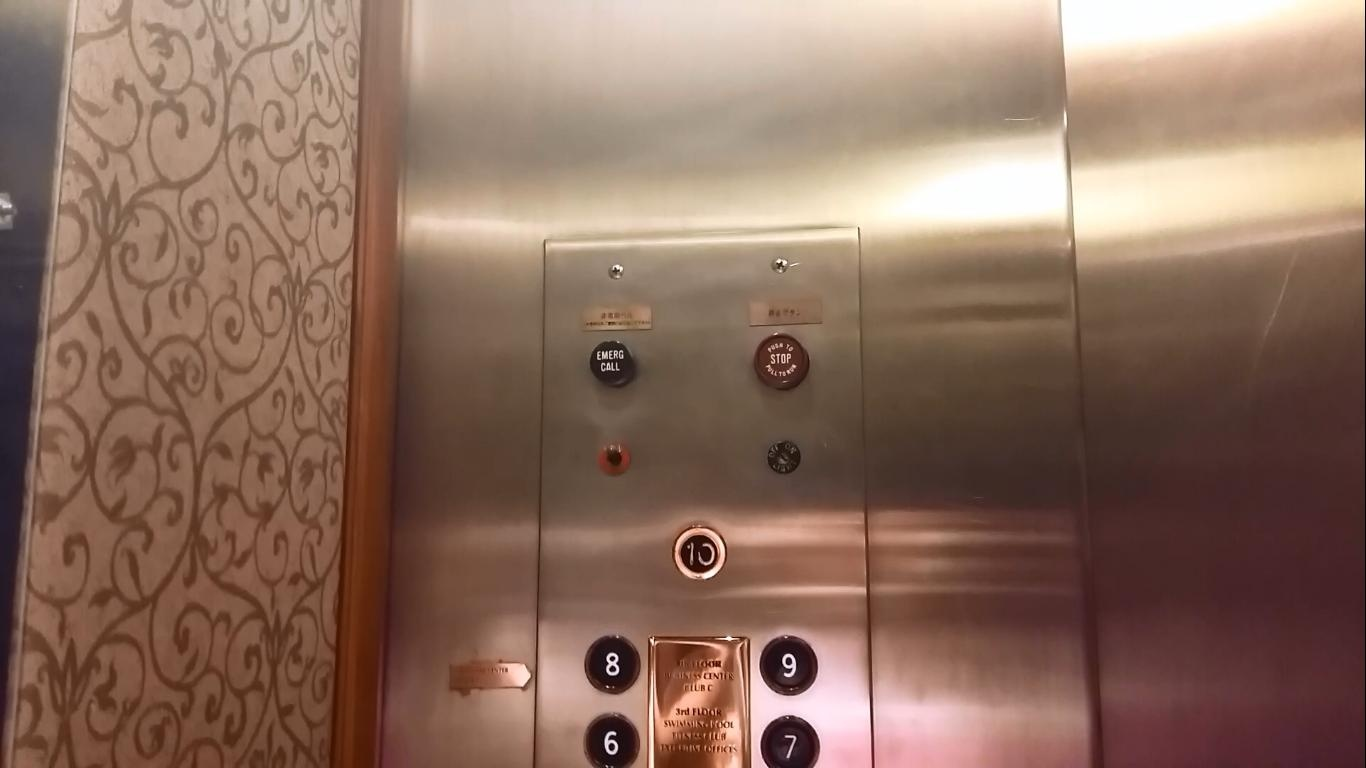10: (673, 525, 727, 581)
6: (583, 711, 640, 768)
7: (760, 715, 822, 768)
8: (584, 635, 641, 694)
9: (759, 635, 819, 698)
keyhole: (767, 441, 802, 475)
switch: (598, 443, 633, 476)
text: (752, 332, 809, 390), (587, 340, 636, 387)
